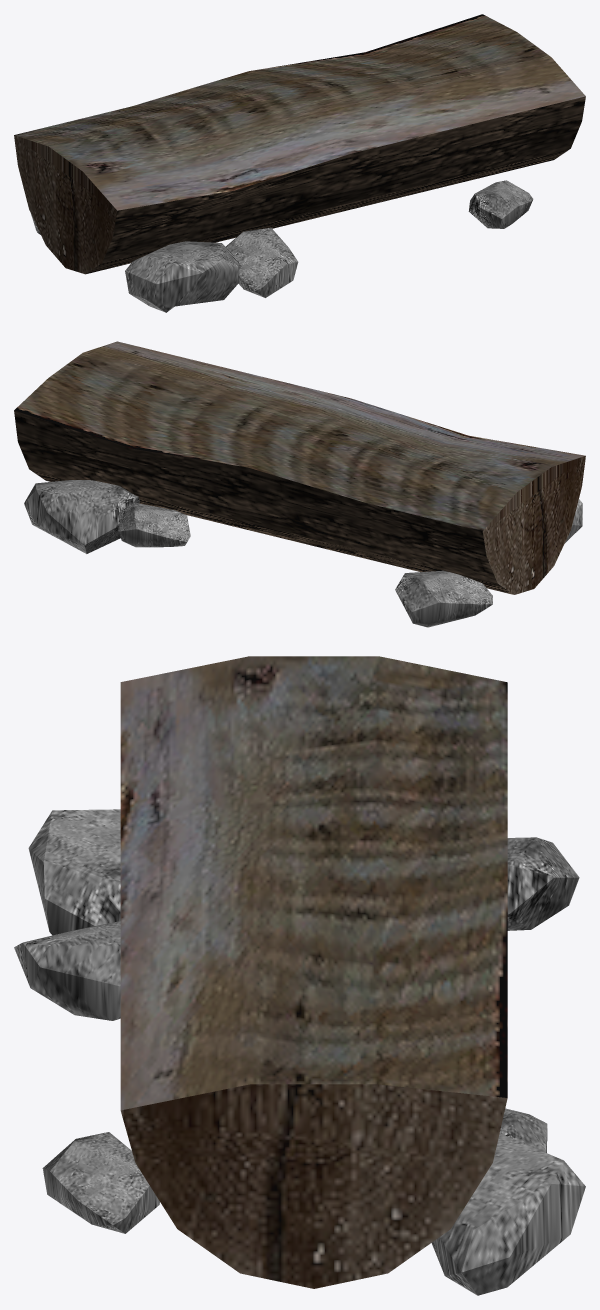
File: Log Bench.fbx
3 views of the same model, one above another, from view 1: azimuth 30°, elevation 25°; view 2: azimuth 150°, elevation 25°; view 3: azimuth 270°, elevation 25° (orthographic). The views are drawn at different scales.
Visible parts, largest first — view 1: Log Bench; view 2: Log Bench; view 3: Log Bench.
Boxes of the visible parts, box(x1,y1,x2,y2) form: Log Bench: box(14, 14, 585, 312); Log Bench: box(14, 341, 585, 627); Log Bench: box(14, 656, 585, 1295).
Bounding box in the file's own units: 2.07 × 0.5242 × 1.17.
